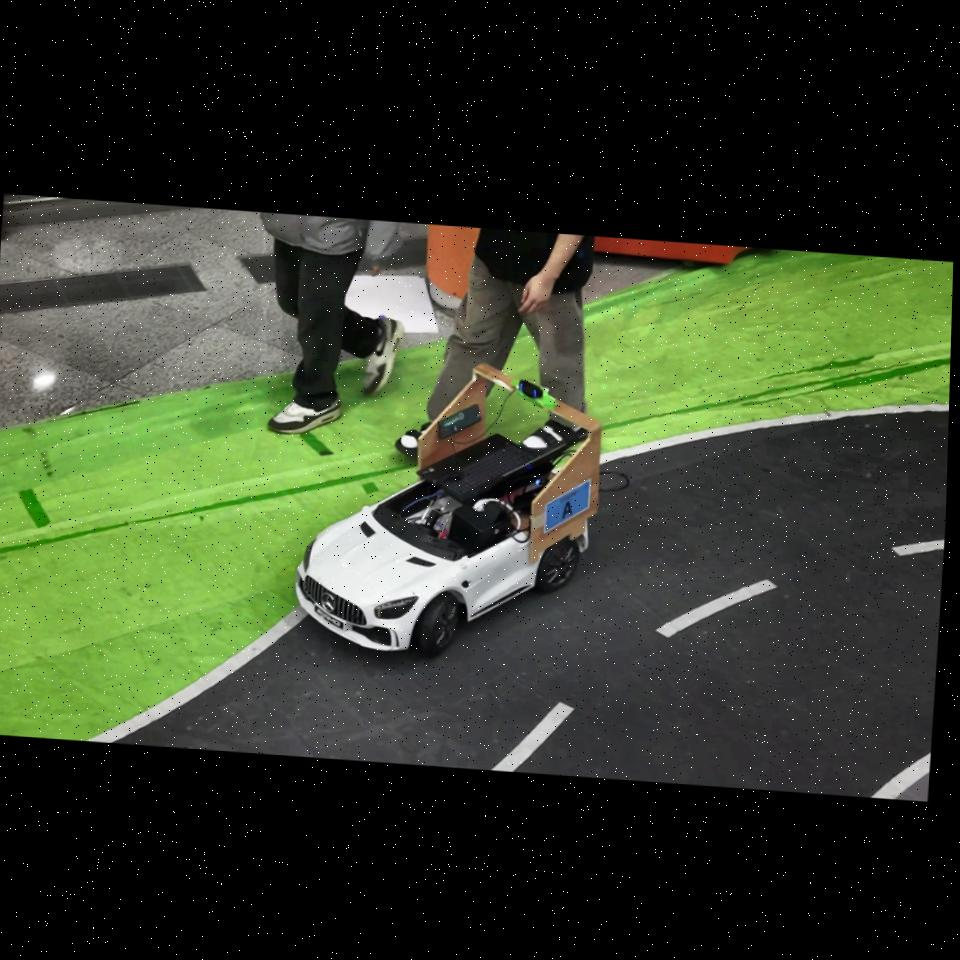broken_line: (655, 579, 778, 638), (492, 702, 575, 771), (891, 540, 944, 556)
